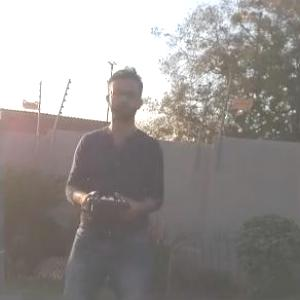follow: (58, 58, 170, 299)
